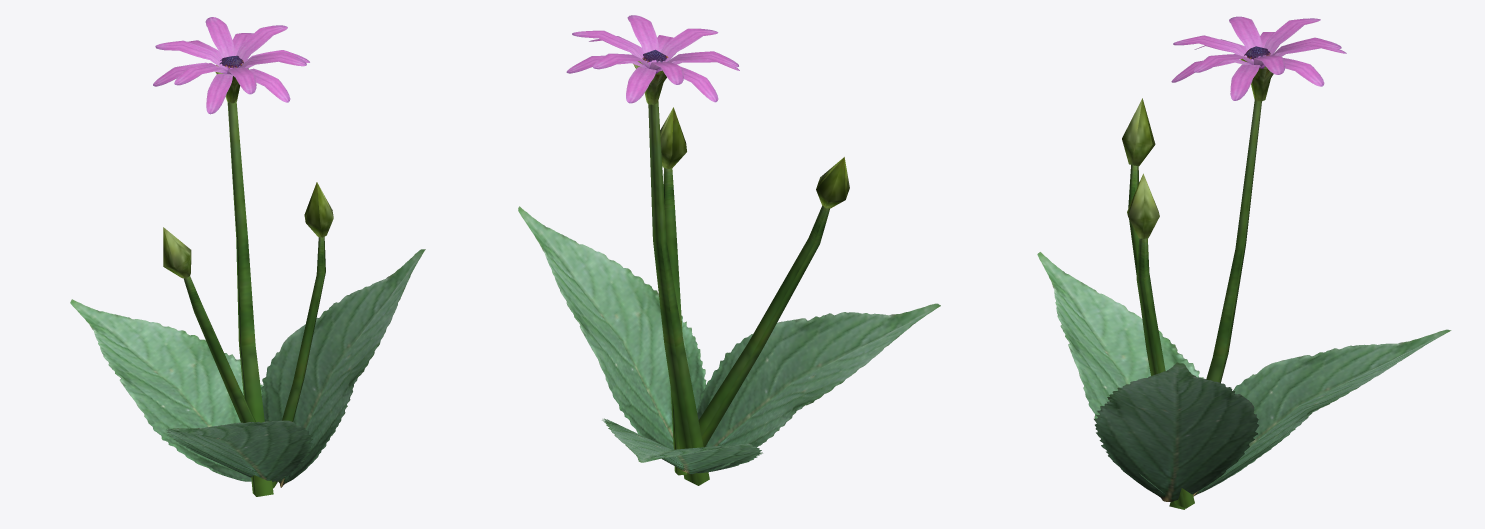
File: pinkf2.fbx
3 renders of one model, left to right at view 1: azimuth 30°, elevation 25°; view 2: azimuth 150°, elevation 25°; view 3: azimuth 270°, elevation 25°, orthographic. The views are drawn at different scales.
Visible parts, largest first — view 1: pinkf02; view 2: pinkf02; view 3: pinkf02.
Boxes of the visible parts, <box> form: pinkf02: <box>70,17,425,496</box>; pinkf02: <box>518,15,940,485</box>; pinkf02: <box>1037,16,1451,509</box>.
Bounding box in the file's own units: 25.08 × 27.94 × 26.34.
